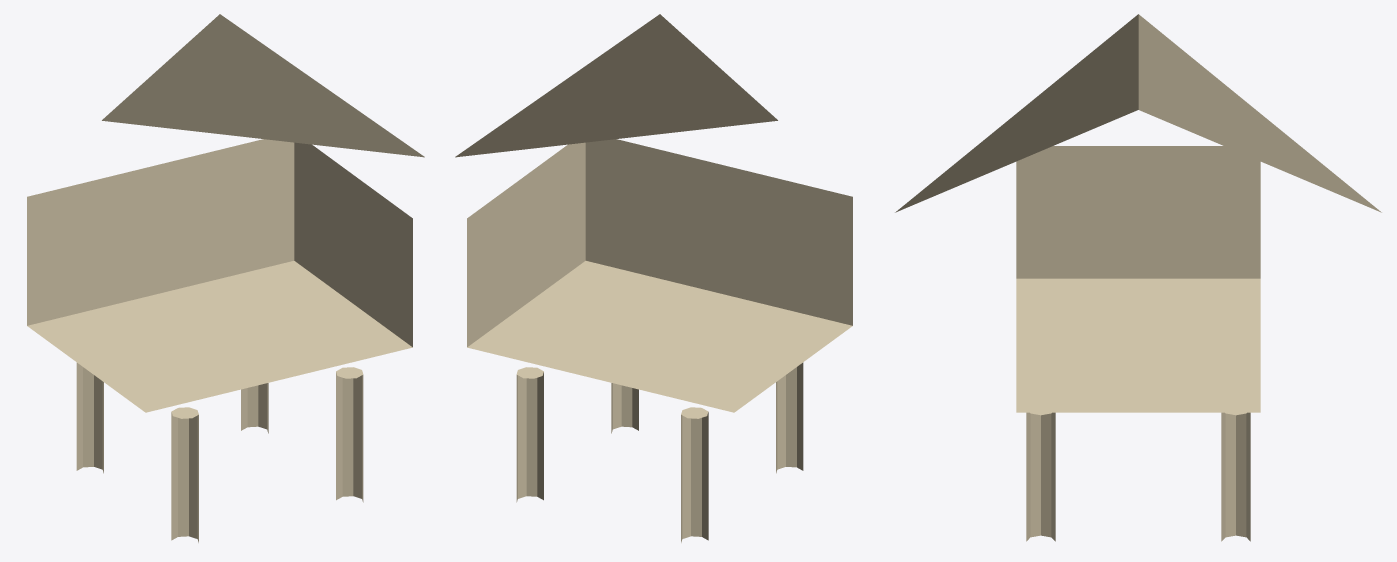
Rendered from batak-rumah.glb.
3 renders of one model, left to right at view 1: azimuth 30°, elevation 25°; view 2: azimuth 150°, elevation 25°; view 3: azimuth 270°, elevation 25°, orthographic. The views are drawn at different scales.
Visible parts, largest first — view 1: batak-rumah.glb; view 2: batak-rumah.glb; view 3: batak-rumah.glb.
Boxes of the visible parts, <box> form: batak-rumah.glb: <box>27,14,424,542</box>; batak-rumah.glb: <box>455,14,852,542</box>; batak-rumah.glb: <box>895,14,1381,541</box>.
Bounding box in the file's own units: 2 × 2.2 × 2.
